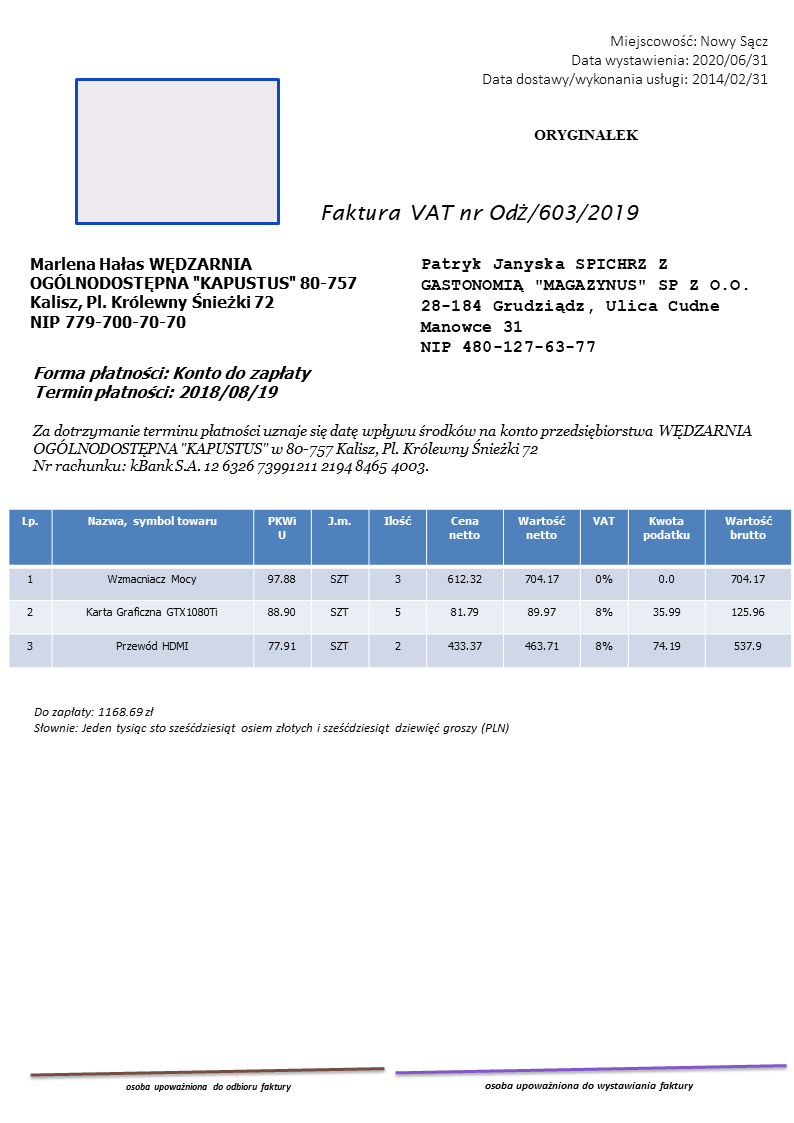Table: (6, 507, 793, 668)
TextBox: (29, 421, 754, 476), (418, 254, 751, 356), (25, 252, 355, 332), (29, 702, 512, 740), (476, 29, 773, 90), (32, 363, 312, 404), (317, 199, 640, 224), (482, 1077, 695, 1096), (122, 1078, 294, 1097), (528, 125, 640, 145)
